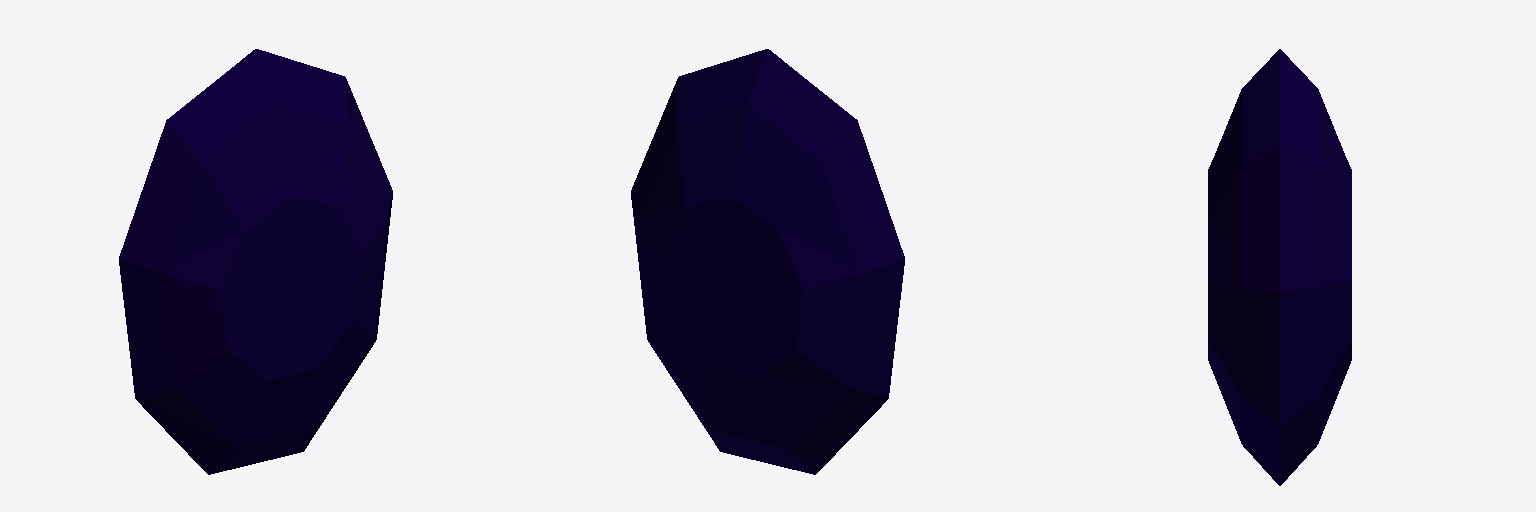
The model's file is Jewel_05.obj.
3 renders of one model, left to right at view 1: azimuth 30°, elevation 25°; view 2: azimuth 150°, elevation 25°; view 3: azimuth 270°, elevation 25°, orthographic.
Visible parts, largest first — view 1: Jewel_05_Circle.002; view 2: Jewel_05_Circle.002; view 3: Jewel_05_Circle.002.
Part boxes in pixels (left/top/right/bottom): Jewel_05_Circle.002: left=119, top=49, right=392, bottom=474; Jewel_05_Circle.002: left=631, top=49, right=904, bottom=474; Jewel_05_Circle.002: left=1208, top=49, right=1351, bottom=485.
Bounding box in the file's own units: 5.61 × 8.09 × 2.53.